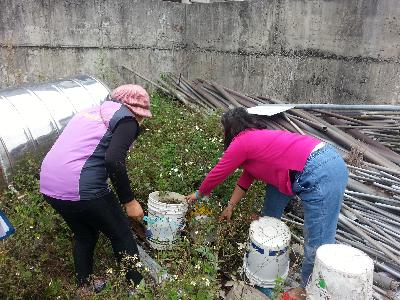bucket: (240, 212, 295, 292), (301, 243, 377, 300), (143, 189, 190, 252)
